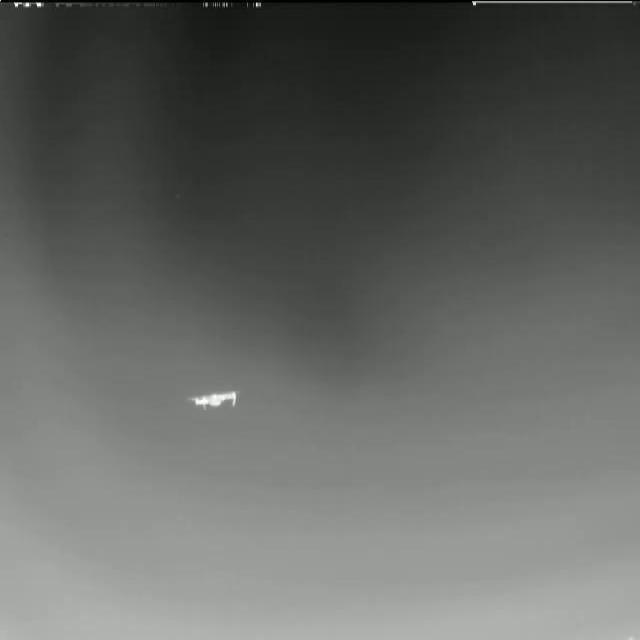DRONE: (184, 382, 246, 416)
